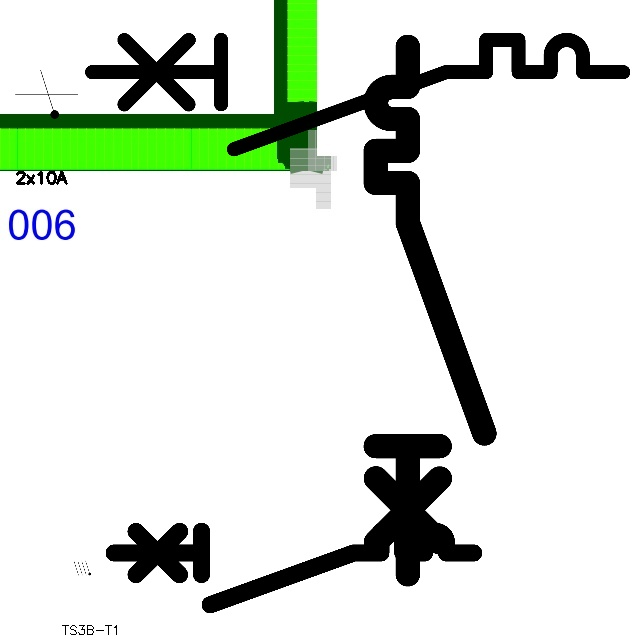interruptor_termomagnetico: (78, 26, 636, 162), (362, 33, 498, 588), (104, 522, 482, 614)
